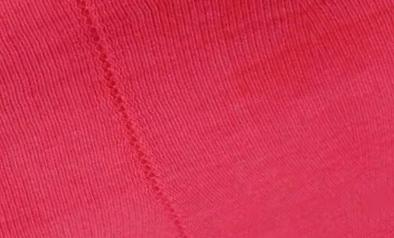slub: (78, 0, 189, 238)
